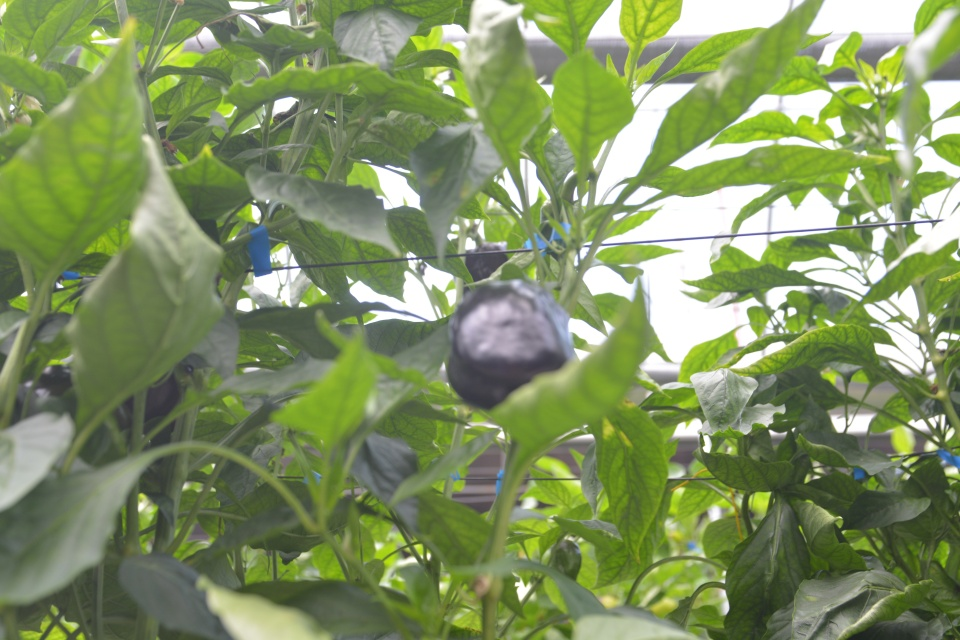flower: (4, 108, 33, 132), (18, 90, 47, 114)
fruit: (444, 278, 576, 411), (121, 363, 195, 433), (11, 362, 73, 424), (461, 239, 509, 297), (538, 197, 588, 252), (549, 538, 583, 582)
